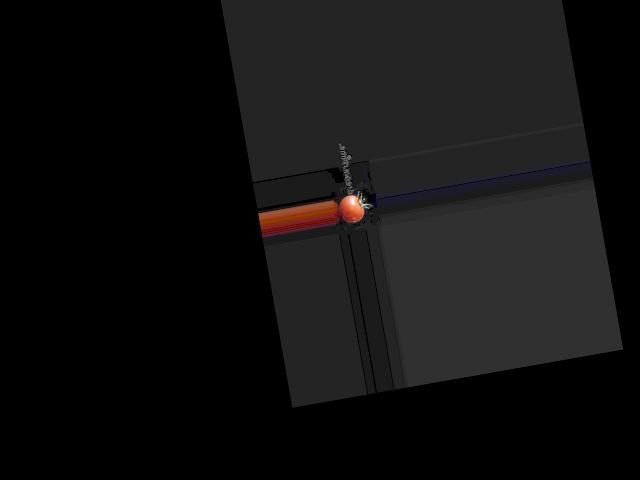tomato: (337, 193, 365, 223)
